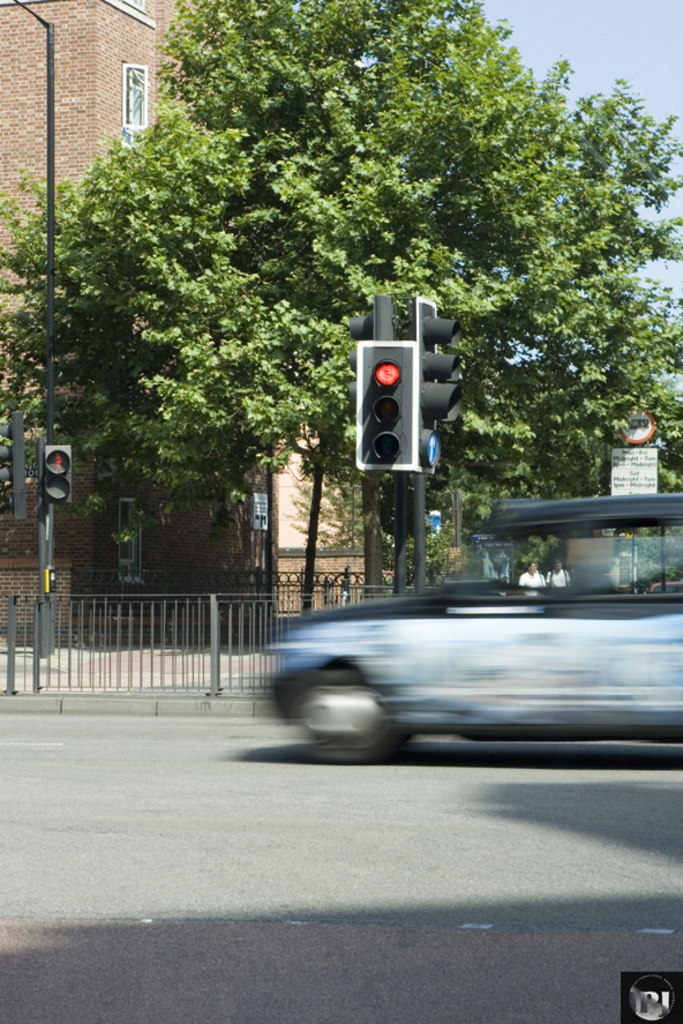red_light: (368, 353, 410, 465)
